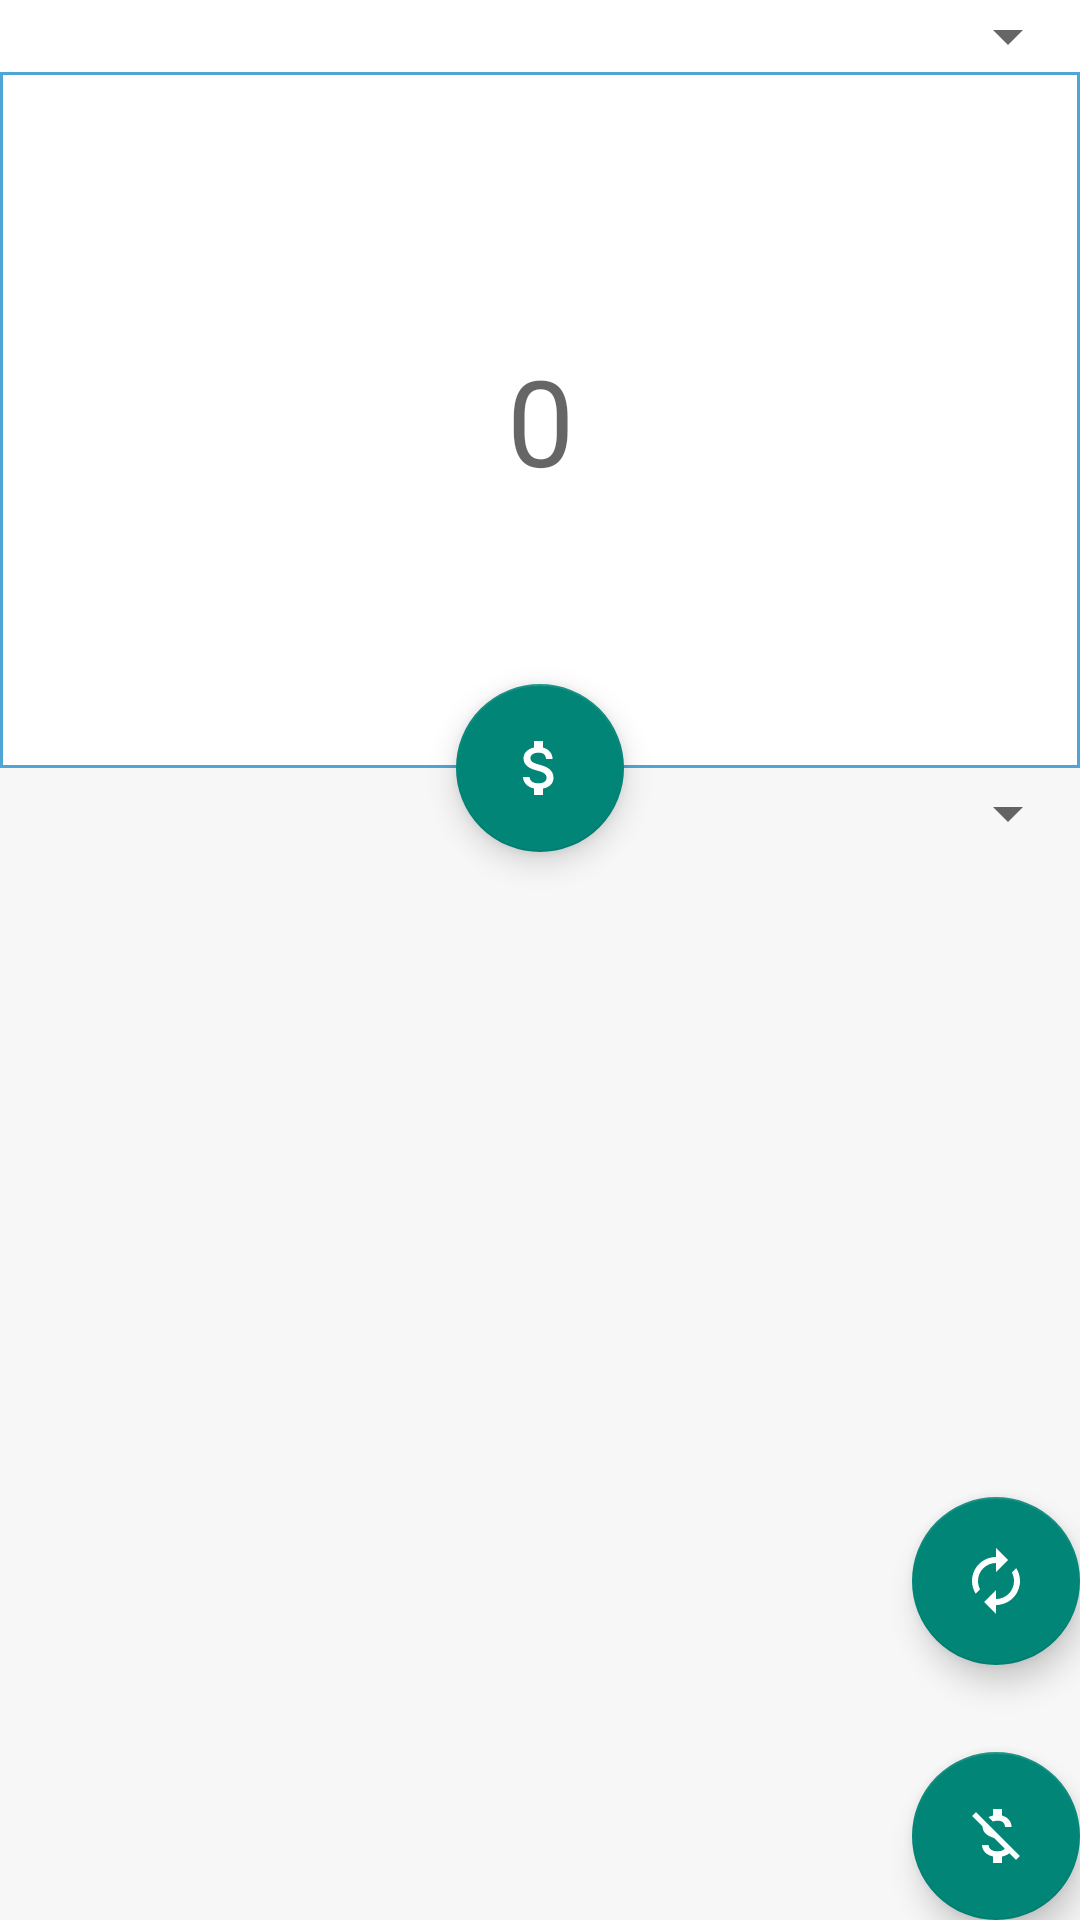

Screen size 1080w x 1920h. Icon name, then its box in pixels as [left=x1, top=y1, right=x2, bottom=y2]:
money: [left=456, top=684, right=624, bottom=852]
money off: [left=912, top=1752, right=1080, bottom=1920]
swap: [left=912, top=1497, right=1080, bottom=1665]
